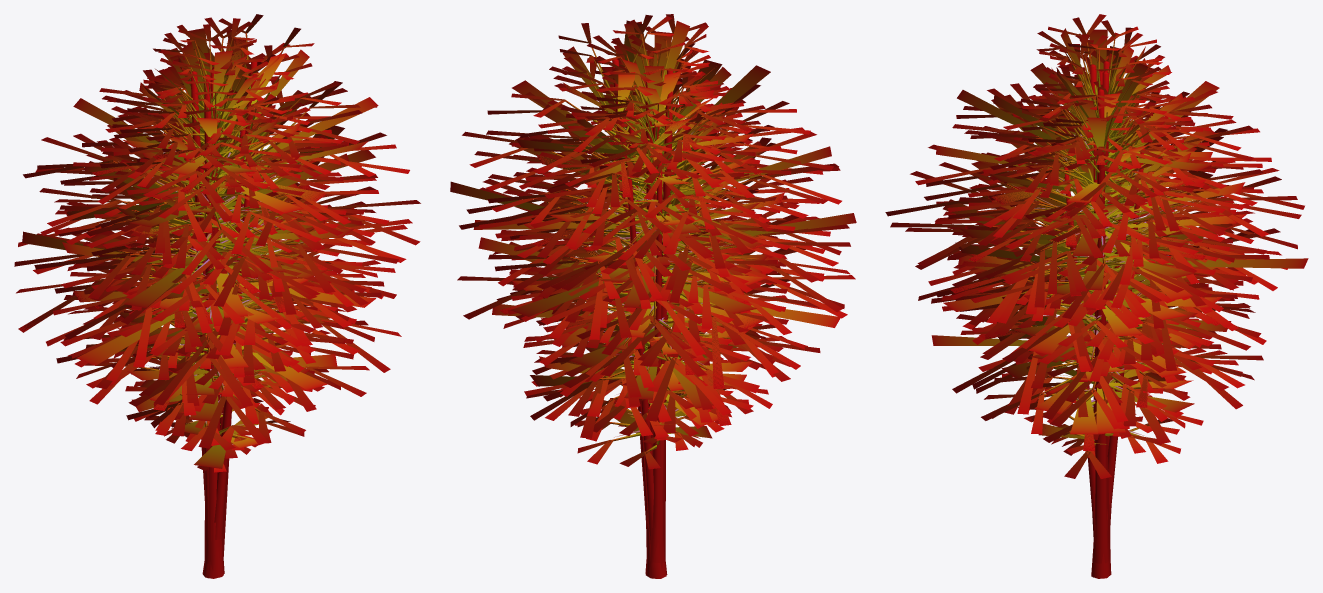
The model's file is birch.glb.
3 views of the same model, side by side, from view 1: azimuth 30°, elevation 25°; view 2: azimuth 150°, elevation 25°; view 3: azimuth 270°, elevation 25° (orthographic).
Visible parts, largest first — view 1: v1, v5, v7, v0, v6, v3, v9, v2, v8, v4, v5_far, v0_far (+8 smaller); view 2: v1, v5, v7, v0, v9, v6, v3, v2, v4, v8, v0_far, v5_far (+8 smaller); view 3: v5, v6, v7, v0, v1, v9, v3, v2, v4, v8, v6_far, v5_far (+8 smaller).
Part boxes in pixels (left/top/right/bottom): v1: left=16, top=76, right=401, bottom=448; v5: left=14, top=75, right=420, bottom=430; v7: left=34, top=17, right=412, bottom=373; v0: left=23, top=29, right=398, bottom=576; v6: left=82, top=14, right=407, bottom=578; v3: left=73, top=56, right=353, bottom=571; v9: left=53, top=71, right=369, bottom=575; v2: left=54, top=25, right=374, bottom=578; v8: left=83, top=23, right=356, bottom=442; v4: left=101, top=18, right=329, bottom=288; v5_far: left=73, top=48, right=375, bottom=403; v0_far: left=62, top=38, right=378, bottom=430; v1: left=493, top=81, right=850, bottom=557; v5: left=457, top=60, right=855, bottom=437; v7: left=459, top=14, right=850, bottom=375; v0: left=488, top=45, right=849, bottom=578; v9: left=496, top=91, right=819, bottom=569; v6: left=462, top=16, right=813, bottom=578; v3: left=510, top=26, right=824, bottom=577; v2: left=512, top=37, right=812, bottom=562; v4: left=529, top=15, right=755, bottom=292; v8: left=525, top=24, right=799, bottom=445; v0_far: left=478, top=21, right=831, bottom=576; v5_far: left=492, top=60, right=856, bottom=399; v5: left=905, top=67, right=1304, bottom=429; v6: left=924, top=34, right=1266, bottom=563; v7: left=915, top=27, right=1301, bottom=362; v0: left=885, top=44, right=1288, bottom=578; v1: left=918, top=72, right=1297, bottom=442; v9: left=956, top=61, right=1253, bottom=578; v3: left=947, top=49, right=1263, bottom=578; v2: left=948, top=20, right=1243, bottom=576; v4: left=976, top=35, right=1216, bottom=294; v8: left=956, top=14, right=1225, bottom=422; v6_far: left=943, top=61, right=1232, bottom=563; v5_far: left=936, top=65, right=1308, bottom=413.
Size of the model in its own units: 7.62 by 11.48 by 8.09.
